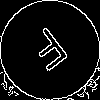F: (25, 25, 77, 80)
